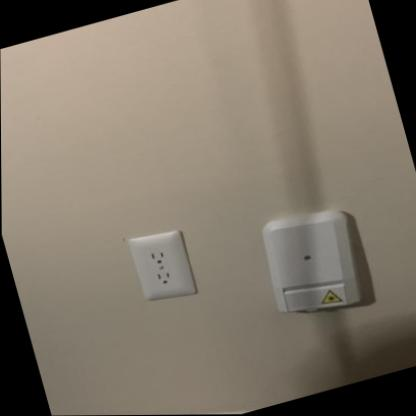OUTLET: (125, 224, 198, 305)
